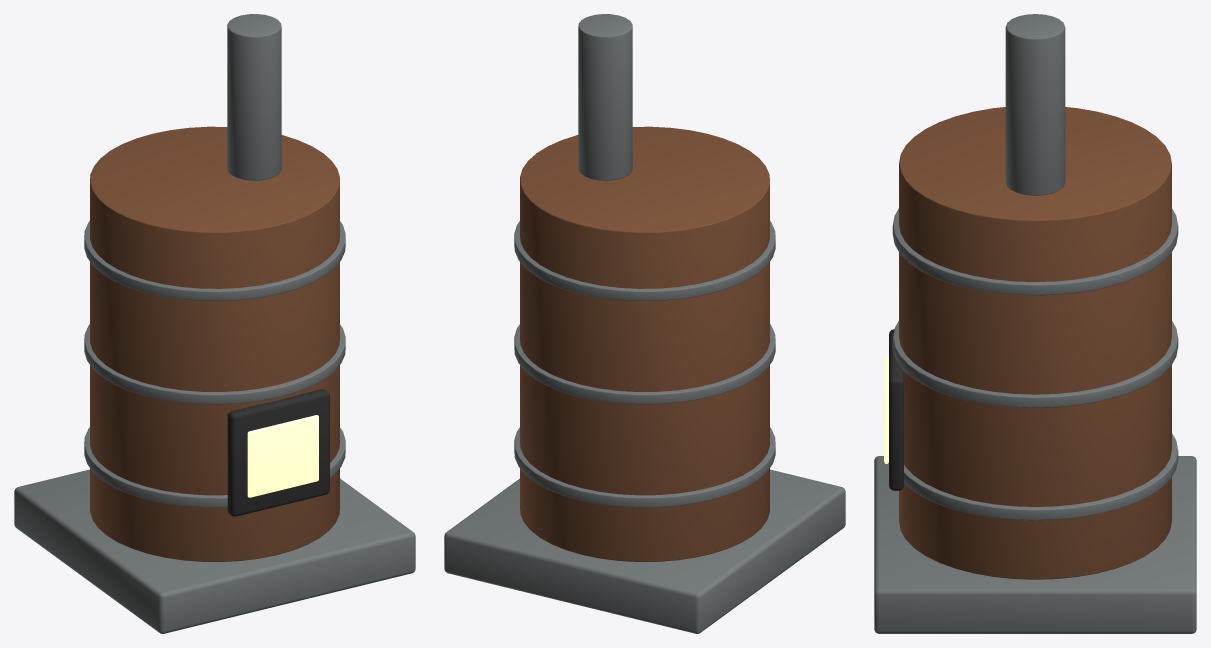
Rendered from furnace.fbx.
3 views of the same model, side by side, from view 1: azimuth 30°, elevation 25°; view 2: azimuth 150°, elevation 25°; view 3: azimuth 270°, elevation 25° (orthographic). The views are drawn at different scales.
Visible parts, largest first — view 1: drum, base, pipe, door, fire, band.001, band.002, band; view 2: drum, base, pipe, band.001, band.002, band; view 3: drum, base, pipe, band.002, band.001, band, door, fire.
Boxes of the visible parts, x1,y1,x2,y2 form: drum: (90, 126, 339, 561); base: (14, 469, 415, 633); pipe: (227, 14, 281, 180); door: (227, 389, 329, 516); fire: (247, 415, 318, 497); band.001: (84, 324, 345, 404); band.002: (84, 221, 345, 301); band: (84, 427, 345, 507); drum: (520, 126, 769, 561); base: (444, 469, 845, 633); pipe: (578, 14, 632, 180); band.001: (514, 324, 775, 404); band.002: (514, 221, 775, 301); band: (514, 427, 775, 507); drum: (899, 107, 1171, 579); base: (874, 456, 1196, 633); pipe: (1005, 14, 1065, 195); band.002: (892, 208, 1178, 295); band.001: (892, 321, 1178, 407); band: (904, 433, 1178, 520); door: (889, 329, 903, 490); fire: (884, 356, 888, 463).
Size of what is drawn, in the model's own units: 130 by 250 by 130.
